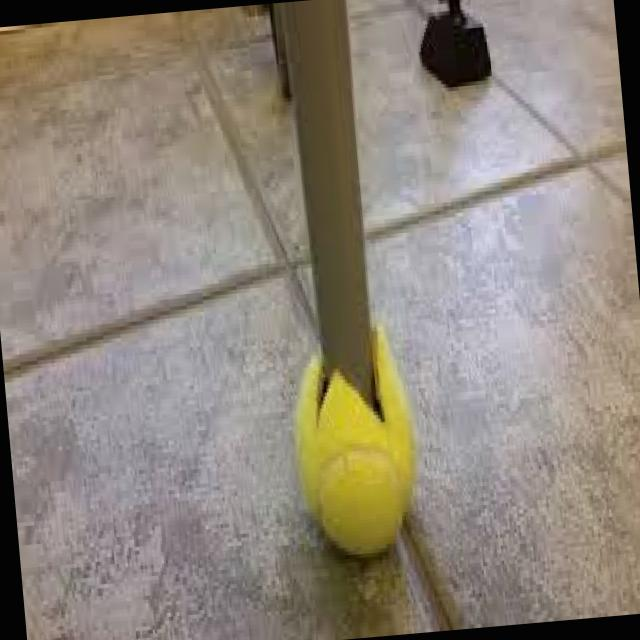Tennis Ball: (288, 346, 422, 562)
